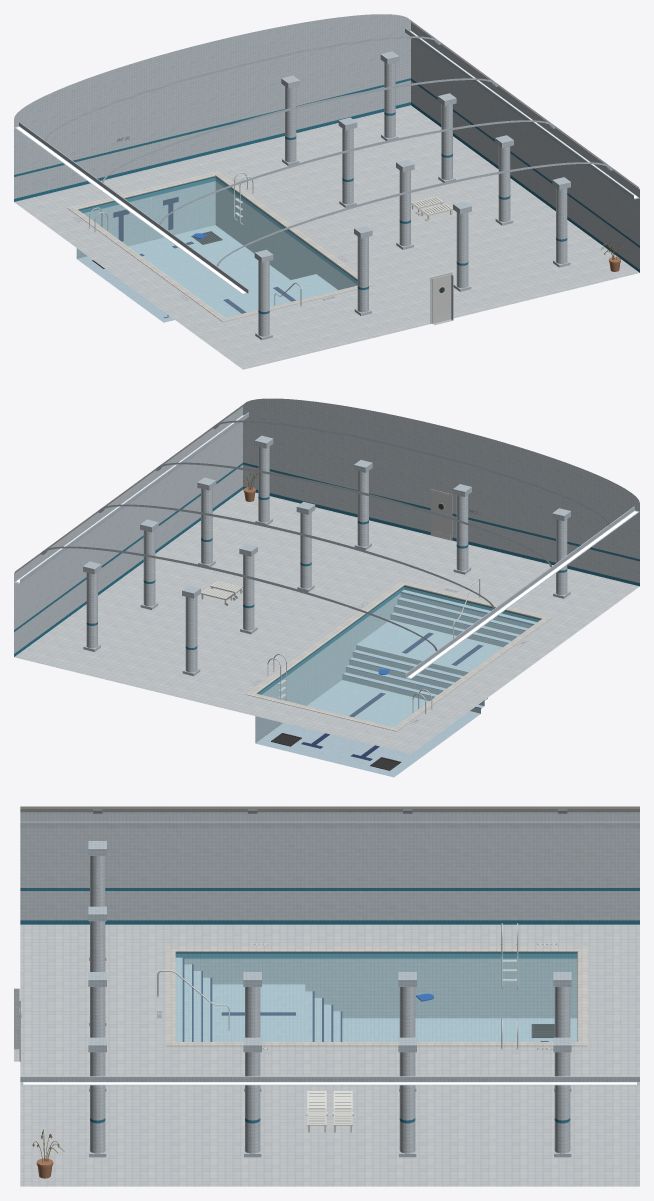
The model's file is sub_pool_02.glb.
3 renders of one model, top to bottom at view 1: azimuth 30°, elevation 25°; view 2: azimuth 150°, elevation 25°; view 3: azimuth 270°, elevation 25°, orthographic. The views are drawn at different scales.
Parts seen in each view (by area): view 1: Tile_Wall, Tile_Deck, Pool_Water, Tile_Pool, Tile_Trim, Tile_Accent, Tile_Lip, Lamp_Emit, DoorLeaf_atrium, Tile_Lane, Plastic_White, Chrome (+1 smaller); view 2: Tile_Wall, Tile_Deck, Tile_Pool, Pool_Water, Tile_Trim, Tile_Accent, Tile_Lip, Tile_Lane, Lamp_Emit, DoorLeaf_atrium, Chrome, Plastic_White (+1 smaller); view 3: Tile_Deck, Tile_Wall, Pool_Water, Tile_Pool, Tile_Trim, Tile_Accent, Tile_Lip, Ceiling_Paint, Lamp_Emit, Plastic_White, Tile_Lane, Chrome.
Boxes of the visible parts, x1,y1,x2,y2 form: Tile_Wall: (14,14,639,336); Tile_Deck: (14,105,639,369); Pool_Water: (80,177,357,317); Tile_Pool: (76,181,357,322); Tile_Trim: (14,28,639,340); Tile_Accent: (14,78,639,314); Tile_Lip: (67,171,373,321); Lamp_Emit: (16,31,637,293); DoorLeaf_atrium: (432,274,451,323); Tile_Lane: (113,197,295,317); Plastic_White: (411,196,453,221); Chrome: (88,172,302,306); Tile_Wall: (14,398,639,672); Tile_Deck: (14,489,639,753); Tile_Pool: (255,589,536,777); Pool_Water: (258,587,539,726); Tile_Trim: (14,412,639,679); Tile_Accent: (14,462,639,694); Tile_Lip: (245,580,552,731); Tile_Lane: (301,591,534,760); Lamp_Emit: (16,415,637,677); DoorLeaf_atrium: (432,491,450,540); Chrome: (267,578,480,713); Plastic_White: (201,580,242,605); Tile_Deck: (14,924,639,1186); Tile_Wall: (14,812,639,1153); Pool_Water: (176,954,576,1041); Tile_Pool: (175,957,577,1041); Tile_Trim: (20,809,639,1157); Tile_Accent: (20,888,639,1123); Tile_Lip: (166,946,587,1046); Ceiling_Paint: (20,806,639,812); Lamp_Emit: (23,1082,636,1084); Plastic_White: (306,1090,353,1132); Tile_Lane: (182,957,548,1041); Chrome: (156,923,518,1049).
Bounding box in the file's own units: 20 × 7.8 × 20.2.
Materials: 19 (10 with a texture image).
